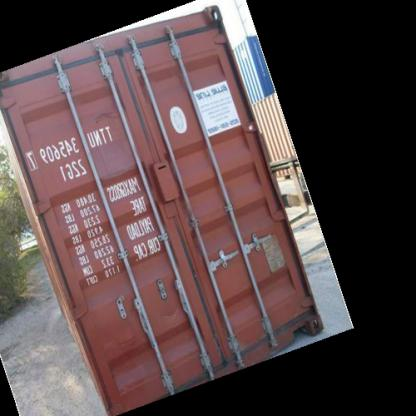Damage: (99, 322, 139, 352), (86, 106, 127, 128), (160, 300, 184, 322)
